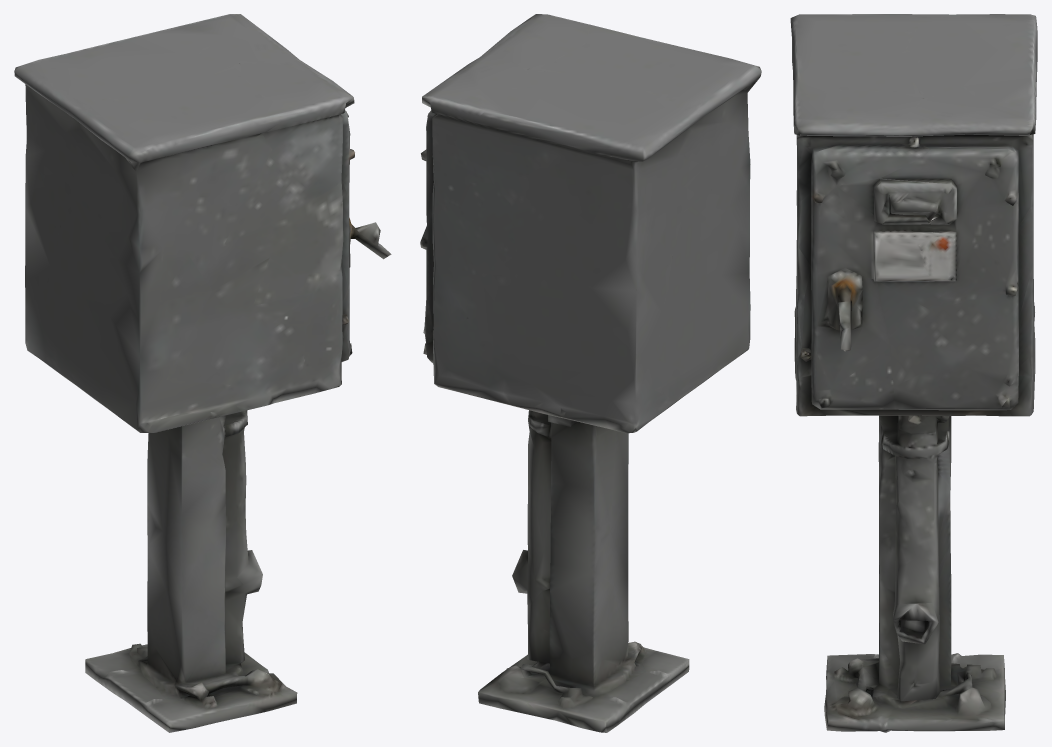
Rendered from breaker_box.704426b2c2.glb.
3 renders of one model, left to right at view 1: azimuth 30°, elevation 25°; view 2: azimuth 150°, elevation 25°; view 3: azimuth 270°, elevation 25°, orthographic. The views are drawn at different scales.
Visible parts, largest first — view 1: breaker_box; view 2: breaker_box; view 3: breaker_box.
Part boxes in pixels (box(x1,y1,x2,y2)): breaker_box: box(14, 14, 391, 732); breaker_box: box(420, 14, 761, 732); breaker_box: box(790, 14, 1037, 732).
Bounding box in the file's own units: 0.8304 × 1.7 × 0.6056.
Materials: 1 (1 with a texture image).
